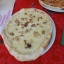pizza: (3, 9, 51, 57)
